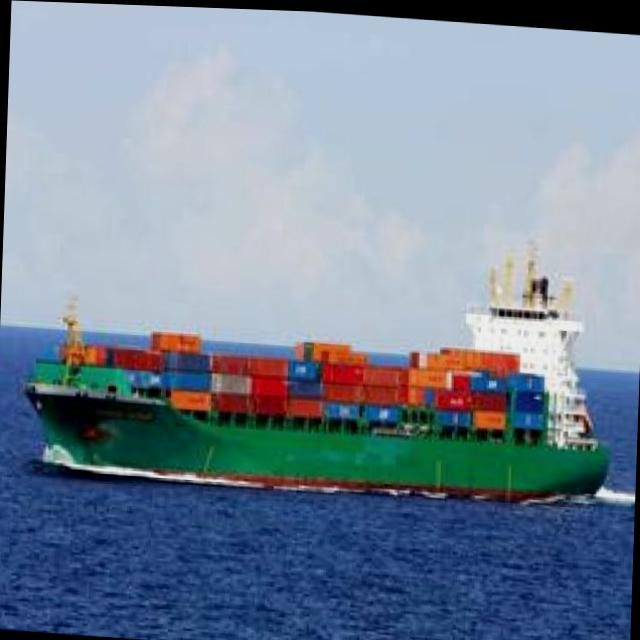ship2: (20, 237, 611, 501)
